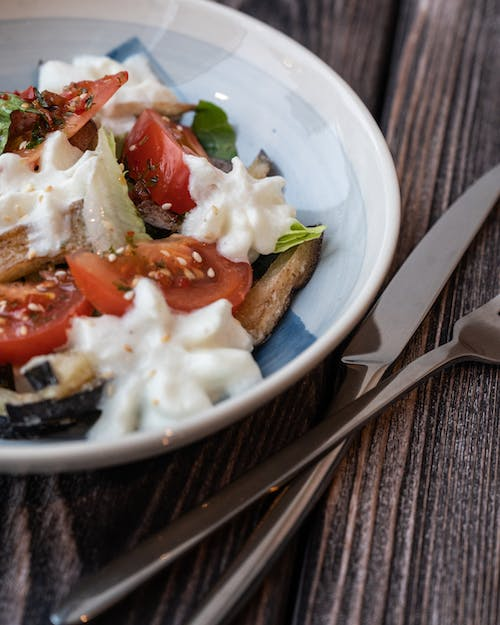knife: (175, 160, 500, 625)
